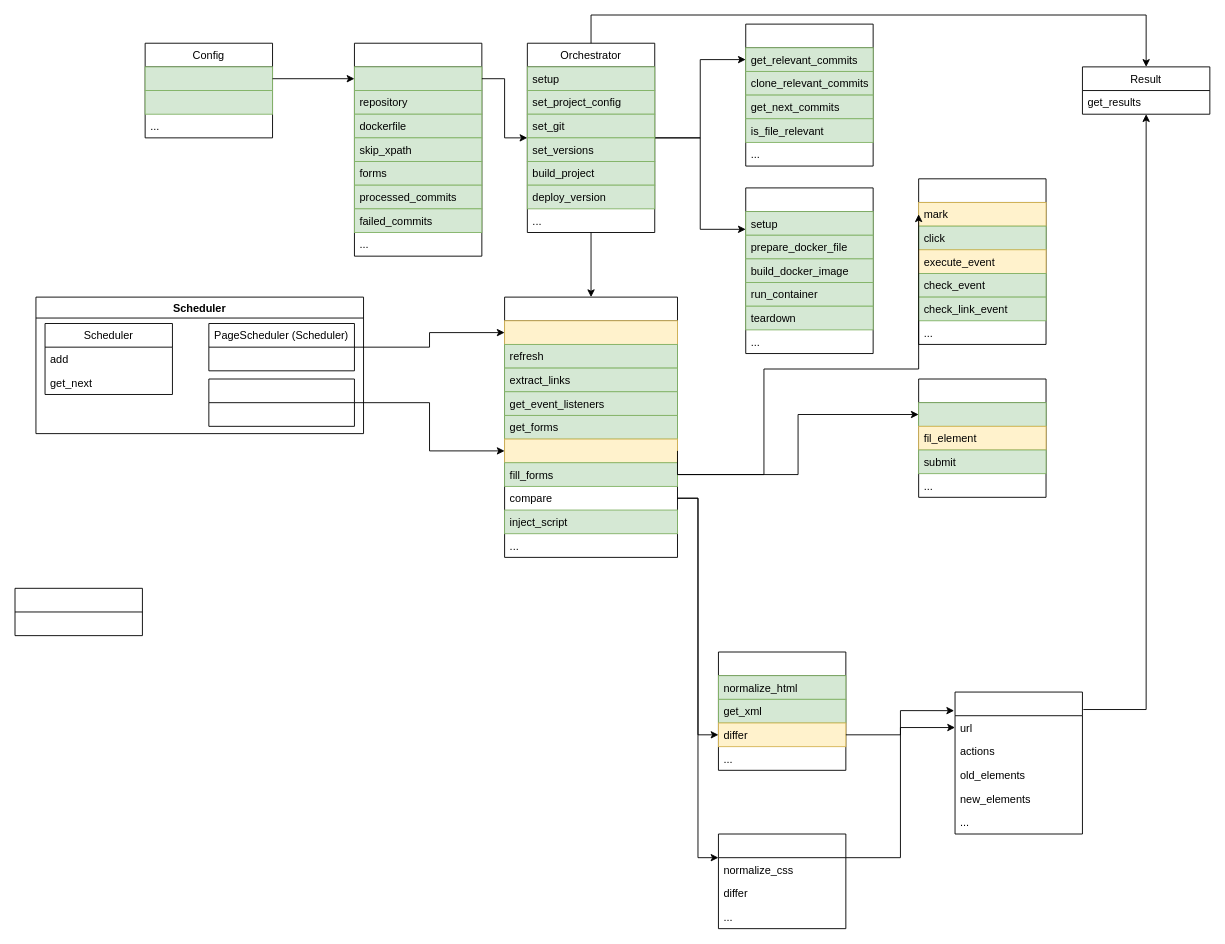
Some shapes in this 1225 by 944 pixel diagram are drawn without their labels. Each missing label, with the box of its shape:
crawl: (504, 320, 677, 344)
Crawler: (504, 296, 677, 557)
Database: (14, 587, 142, 636)
Diff: (954, 691, 1082, 834)
Element: (918, 178, 1046, 344)
EventScheduler (Scheduler): (208, 378, 354, 426)
execute_events: (504, 438, 677, 463)
fill: (918, 402, 1046, 426)
Form (Element): (918, 378, 1046, 497)
get_next_project_configs: (144, 90, 273, 114)
get_project_configs: (144, 66, 273, 91)
Git: (745, 23, 873, 166)
HtmlDiff: (718, 651, 846, 770)
project_name: (354, 66, 482, 91)
ProjectConfig: (354, 42, 482, 256)
ProjectSetup: (745, 187, 873, 354)
StyleDiff: (718, 833, 846, 929)
